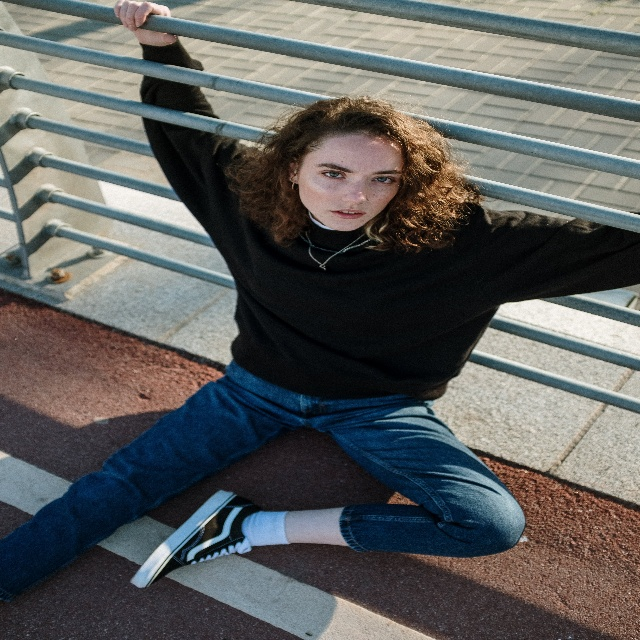Sin_guantes: (113, 0, 176, 48)
